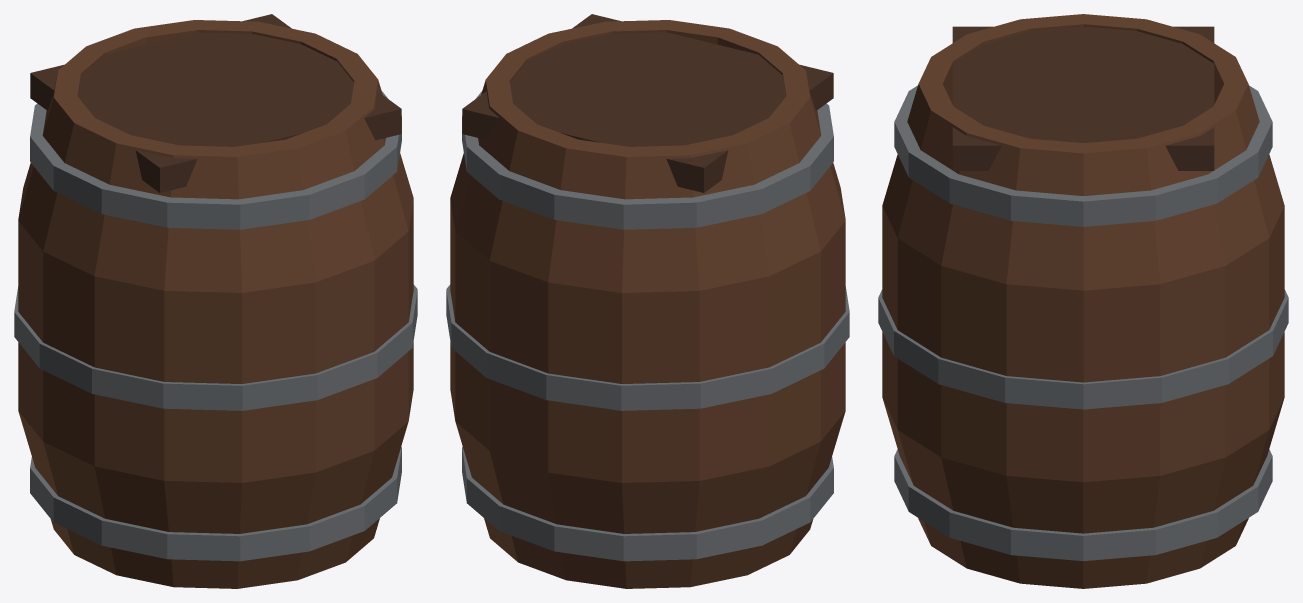
File: Barrel__Upright.fbx
3 views of the same model, side by side, from view 1: azimuth 30°, elevation 25°; view 2: azimuth 150°, elevation 25°; view 3: azimuth 270°, elevation 25° (orthographic).
Parts seen in each view (by area): view 1: Barrel__Upright; view 2: Barrel__Upright; view 3: Barrel__Upright.
Boxes of the visible parts, x1,y1,x2,y2 form: Barrel__Upright: (14,14,417,588); Barrel__Upright: (446,14,849,588); Barrel__Upright: (878,14,1288,588).
Size of the model in its own units: 73.44 by 86 by 73.44.
1 material, 1 textured.
